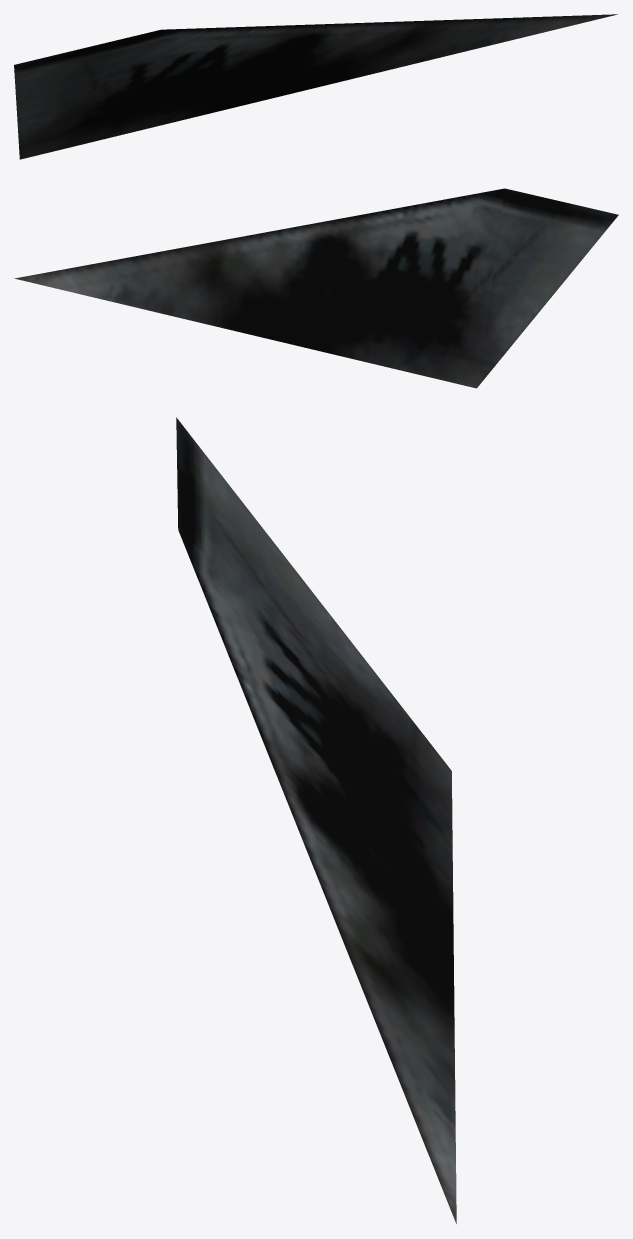
File: USA - Aviation - Aurora Bomber - Damage State 4 - AVAurora_D4.glb
3 renders of one model, top to bottom at view 1: azimuth 30°, elevation 25°; view 2: azimuth 150°, elevation 25°; view 3: azimuth 270°, elevation 25°, orthographic. The views are drawn at different scales.
Parts seen in each view (by area): view 1: AVAURORA_D4; view 2: AVAURORA_D4; view 3: AVAURORA_D4.
Boxes of the visible parts, bbox=[...] form: AVAURORA_D4: bbox=[14, 14, 617, 159]; AVAURORA_D4: bbox=[14, 188, 618, 388]; AVAURORA_D4: bbox=[176, 417, 456, 1223].
Size of the model in its own units: 10.52 by 2.69 by 2.39.
Materials: 1 (1 with a texture image).
